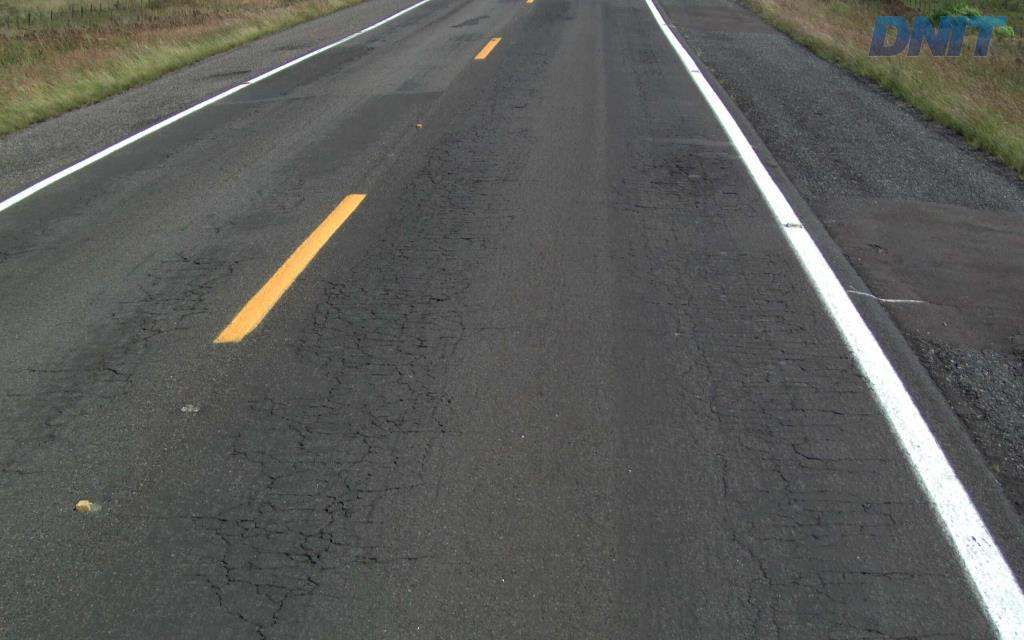crack: (190, 511, 320, 627), (276, 527, 344, 569), (649, 153, 719, 192), (322, 494, 354, 526)
